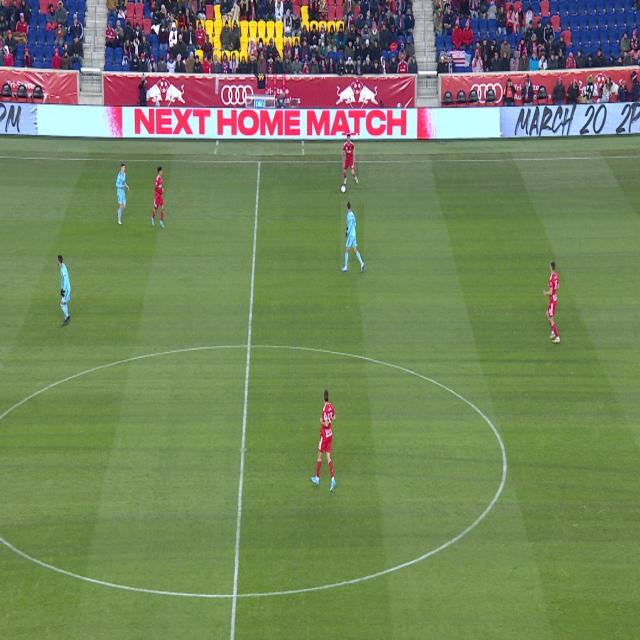football: (341, 184, 346, 193)
player: (311, 389, 336, 492), (342, 201, 364, 272), (544, 261, 560, 343), (58, 255, 71, 325), (151, 166, 164, 228), (116, 163, 129, 225), (343, 134, 358, 184)
